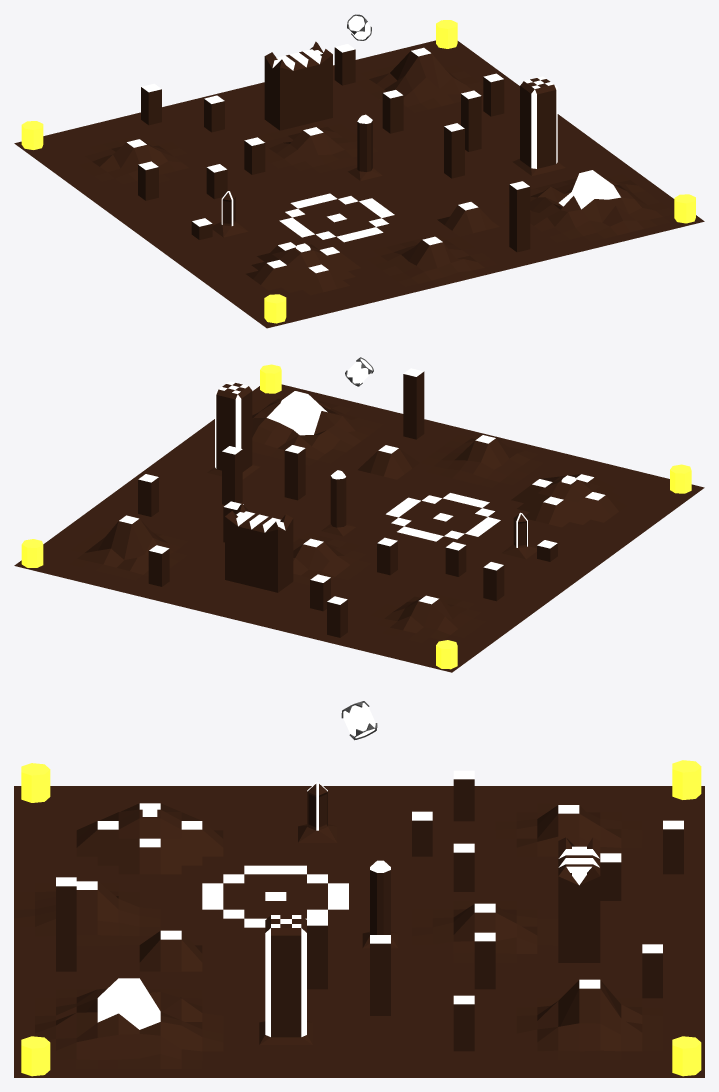
Rendered from Level 4 - Cylinder World 2.gltf.
The picture shows the model from 3 angles, top to bottom: view 1: azimuth 30°, elevation 25°; view 2: azimuth 150°, elevation 25°; view 3: azimuth 270°, elevation 25°; orthographic projection. The views are drawn at different scales.
Parts seen in each view (by area): view 1: Floor, Cylinder guard 3, Cylinder guard 2, Cylinder guard 4, Cylinder guard; view 2: Floor, Cylinder guard, Cylinder guard 4, Cylinder guard 3, Cylinder guard 2, Cylinder sun; view 3: Floor, Cylinder guard, Cylinder guard 4, Cylinder guard 3, Cylinder guard 2, Cylinder sun.
Boxes of the visible parts, left/top/right/bottom form: Floor: left=14, top=40, right=704, bottom=328; Cylinder guard 3: left=264, top=294, right=286, bottom=323; Cylinder guard 2: left=21, top=121, right=43, bottom=149; Cylinder guard 4: left=674, top=194, right=695, bottom=223; Cylinder guard: left=436, top=20, right=457, bottom=48; Floor: left=14, top=368, right=704, bottom=672; Cylinder guard: left=21, top=539, right=43, bottom=567; Cylinder guard 4: left=260, top=364, right=281, bottom=393; Cylinder guard 3: left=670, top=464, right=691, bottom=493; Cylinder guard 2: left=436, top=640, right=457, bottom=669; Cylinder sun: left=345, top=357, right=373, bottom=386; Floor: left=14, top=770, right=704, bottom=1077; Cylinder guard: left=672, top=1036, right=701, bottom=1076; Cylinder guard 4: left=21, top=1036, right=50, bottom=1076; Cylinder guard 3: left=21, top=763, right=50, bottom=802; Cylinder guard 2: left=672, top=760, right=701, bottom=799; Cylinder sun: left=341, top=701, right=377, bottom=740.
Bounding box in the file's own units: 45.25 × 16.57 × 45.25.
